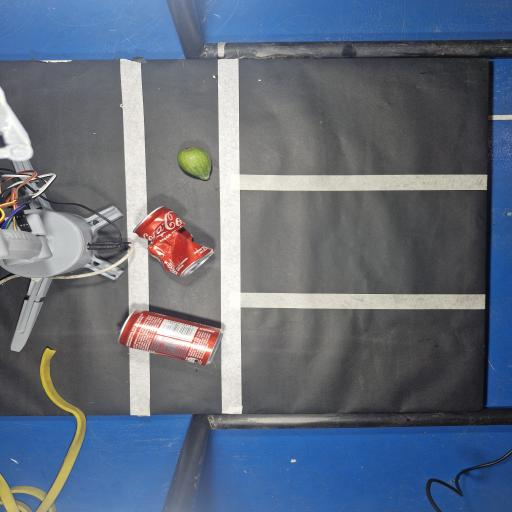higo: (177, 147, 211, 180)
lata: (119, 311, 222, 365)
lata_defectuoso: (133, 207, 213, 276)
